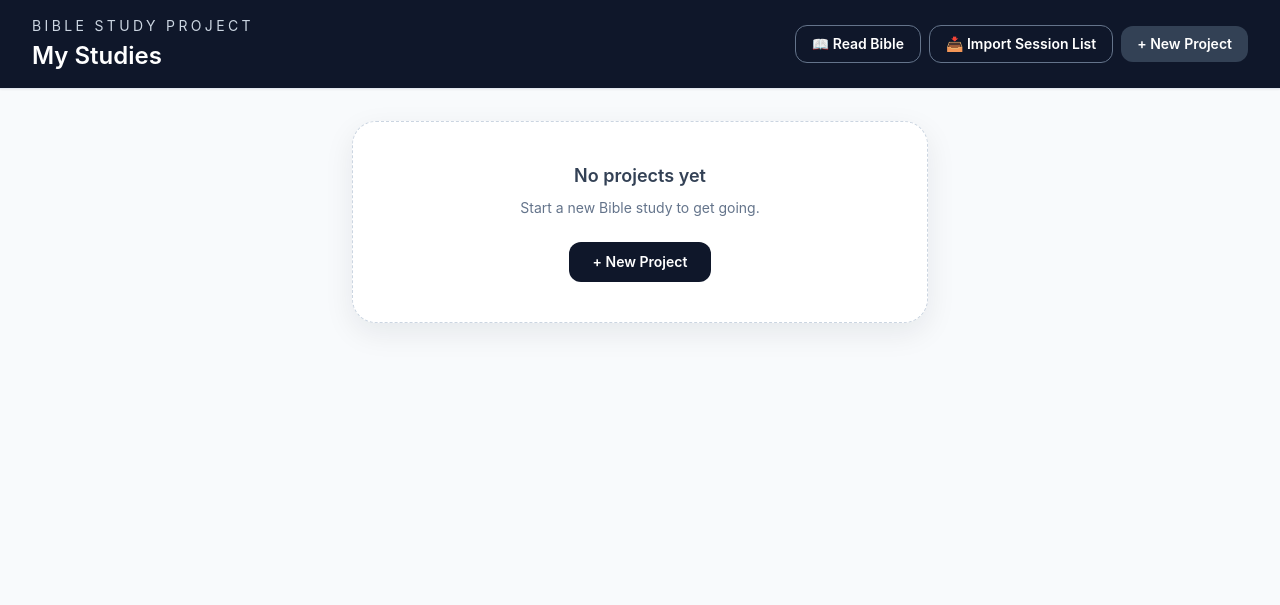
Test: Loading a chapter › shows an error message when chapter data contains no verses
The image size is (1280, 605).
Click the button "+ New Project" in the row of "Bible Study Project": (1185, 44) [1121,26,1248,62]
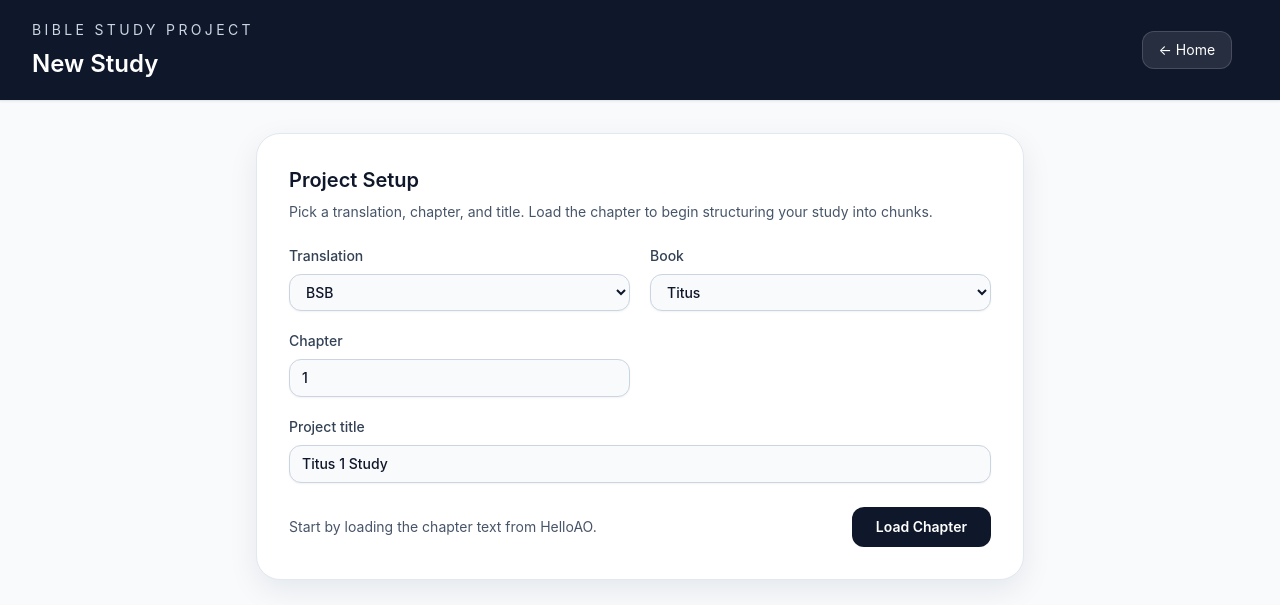
Click the button "Load Chapter": (921, 527) [852,507,991,547]
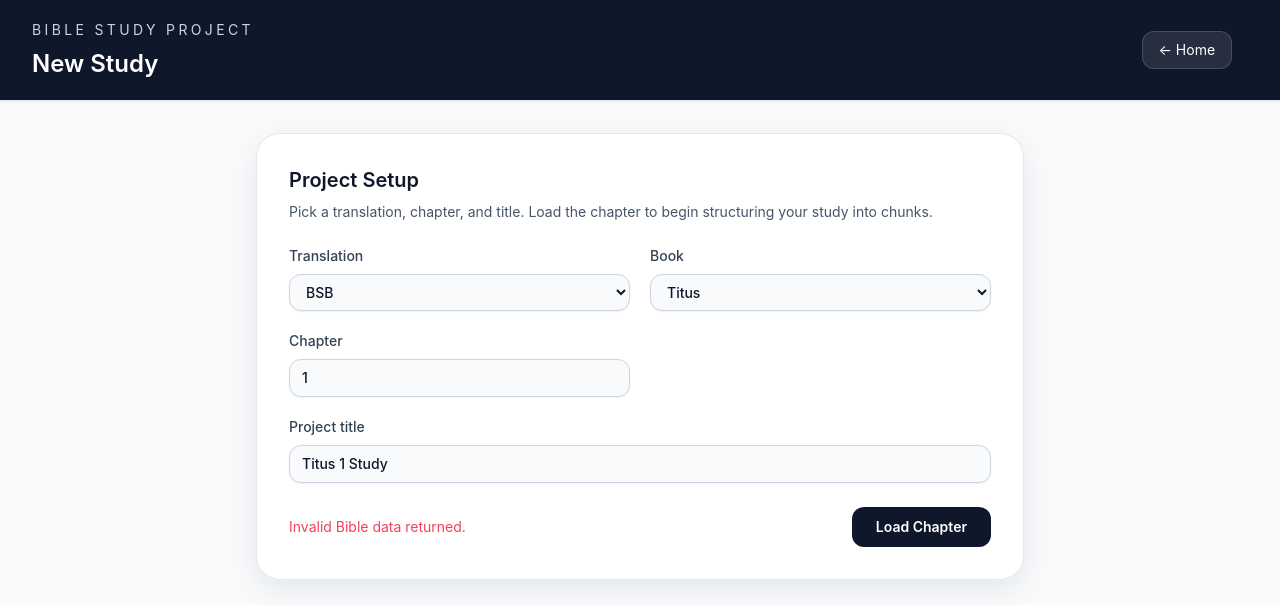
Result: the text "Invalid Bible data returned." is shown at [289,518,466,535]
